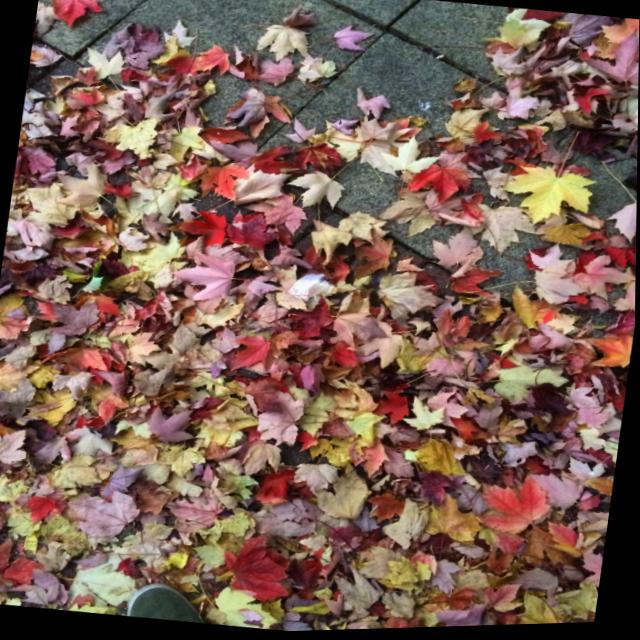Plastic: (281, 263, 342, 309)
